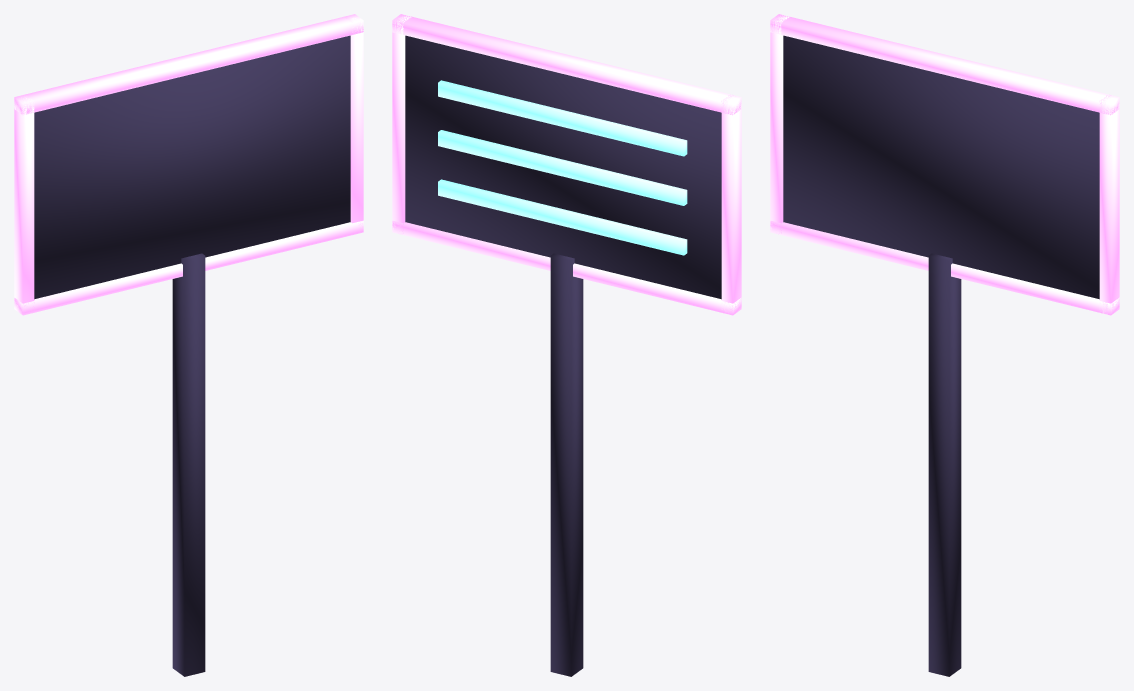
File: ENV_Billboard_Sign.glb
3 views of the same model, side by side, from view 1: azimuth 30°, elevation 25°; view 2: azimuth 150°, elevation 25°; view 3: azimuth 330°, elevation 25° (orthographic).
Parts seen in each view (by area): view 1: panel, post, frame_top, frame_bottom, frame_side_-1, frame_side_1; view 2: panel, post, frame_top, frame_bottom, glyph_2, glyph_1, glyph_0, frame_side_-1, frame_side_1; view 3: panel, post, frame_top, frame_bottom, frame_side_1, frame_side_-1.
Part boxes in pixels (box(x1,y1,x2,y2)): panel: box(34, 35, 350, 299); post: box(172, 253, 205, 676); frame_top: box(14, 14, 363, 114); frame_bottom: box(14, 220, 363, 315); frame_side_-1: box(14, 95, 34, 314); frame_side_1: box(344, 15, 363, 232); panel: box(405, 35, 721, 299); post: box(550, 253, 583, 676); frame_top: box(392, 14, 741, 115); frame_bottom: box(392, 221, 741, 315); glyph_2: box(438, 80, 687, 156); glyph_1: box(438, 130, 687, 205); glyph_0: box(438, 179, 687, 255); frame_side_-1: box(721, 95, 741, 314); frame_side_1: box(392, 14, 411, 233); panel: box(783, 35, 1099, 299); post: box(928, 253, 961, 676); frame_top: box(770, 14, 1119, 115); frame_bottom: box(770, 221, 1119, 315); frame_side_1: box(1099, 95, 1119, 314); frame_side_-1: box(770, 14, 789, 234).
Bounding box in the file's own units: 3.6 × 6.17 × 0.22.
